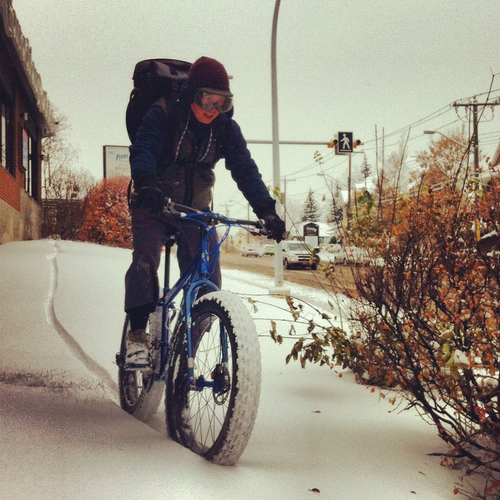bikerider: (97, 40, 278, 471)
